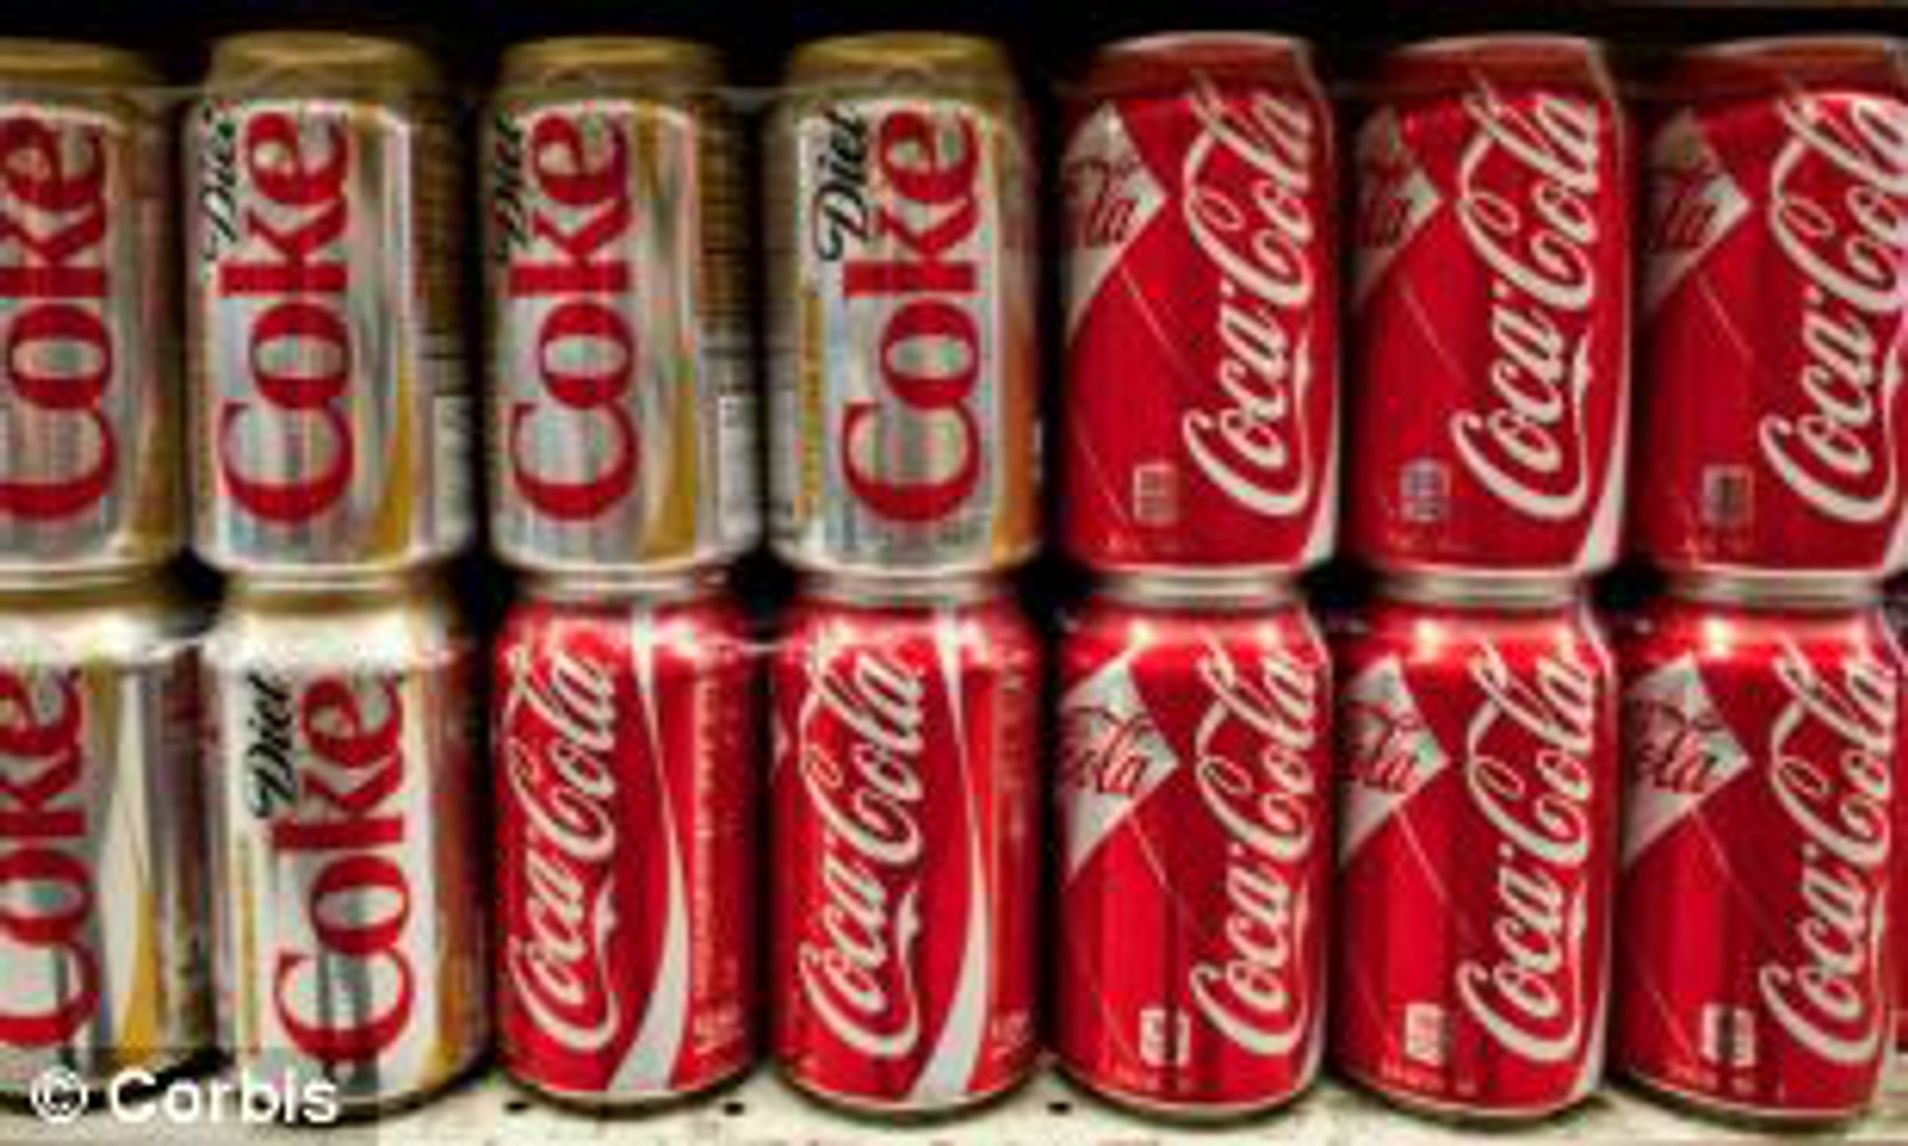can: (1326, 27, 1642, 595), (1058, 5, 1347, 600), (754, 19, 1040, 595), (198, 583, 497, 1106), (202, 14, 459, 621), (476, 27, 758, 579), (476, 575, 762, 1115), (766, 575, 1048, 1115), (1614, 561, 1886, 1115), (1347, 579, 1620, 1117), (1048, 595, 1326, 1115), (1642, 23, 1892, 595), (0, 609, 219, 1111), (0, 27, 164, 604)
